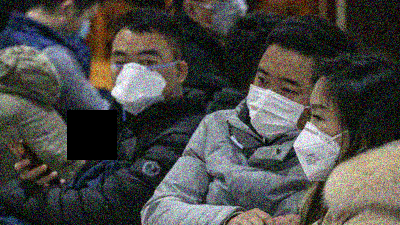with_mask: (244, 65, 305, 141), (290, 101, 342, 185), (111, 48, 169, 115), (200, 1, 248, 43), (62, 11, 96, 52)
